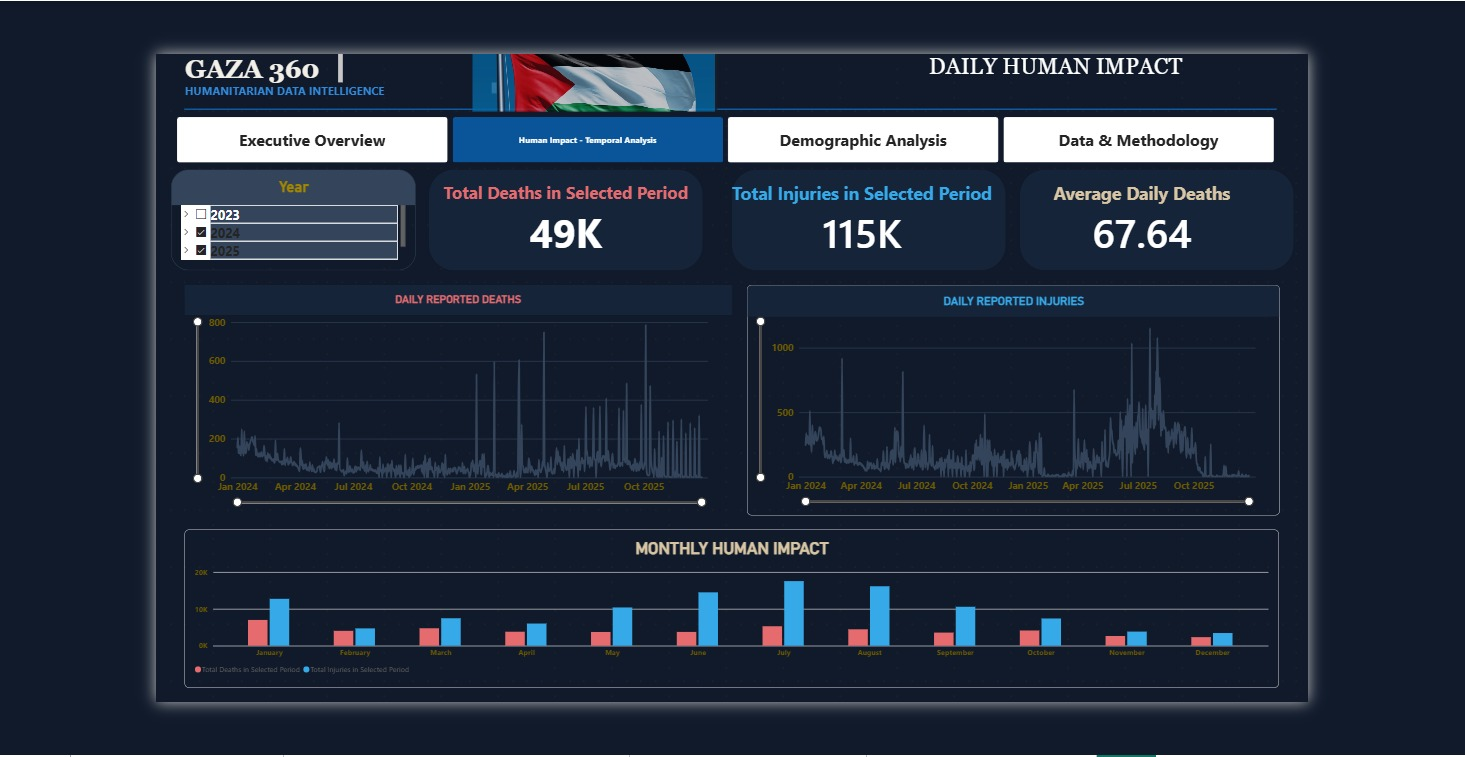

The page's visual inventory and layout, read from the dashboard file:
{"tool":"powerbi","page":{"name":"Human Impact - Temporal Analysis","canvas":[1920,1080],"ordinal":1},"visuals":[{"type":"textbox","box":[48,0,264,48],"z":0},{"type":"textbox","box":[48,48,520,28],"z":1000},{"type":"shape","box":[48,72,1820.1,39],"z":2000},{"type":"textbox","box":[1128,0,744,48],"z":3000},{"type":"image","box":[528,0,408,96],"z":4000},{"type":"shape","box":[1440,192,456,168],"z":5000},{"type":"shape","box":[960,192,456,168],"z":6000},{"type":"shape","box":[456,192,456,168],"z":7000},{"type":"cardVisual","fields":{"Data":["gold dim_age.Average Daily Deaths"]},"box":[1416,192,456,168],"z":8000},{"type":"cardVisual","fields":{"Data":["gold dim_age.Total Deaths in Selected Period"]},"box":[456,192,456,168],"z":9000},{"type":"cardVisual","fields":{"Data":["gold dim_age.Total Injuries in Selected Period"]},"box":[912,192,528,168],"z":10000},{"type":"lineChart","title":"DAILY REPORTED DEATHS","fields":{"Category":["gold dim_date.date_key"],"Y":["gold dim_age.Total Deaths in Selected Period"]},"box":[48,384,912,384],"z":11000},{"type":"clusteredColumnChart","title":"MONTHLY HUMAN IMPACT","fields":{"Category":["gold dim_date.date_key.Variation.Date Hierarchy.Month"],"Y":["gold dim_age.Total Deaths in Selected Period","gold dim_age.Total Injuries in Selected Period"]},"box":[48,792,1824,264],"z":12000},{"type":"lineChart","title":"DAILY REPORTED INJURIES","fields":{"Category":["gold dim_date.date_key.Variation.Date Hierarchy.Year","gold dim_date.date_key.Variation.Date Hierarchy.Quarter","gold dim_date.date_key.Variation.Date Hierarchy.Month","gold dim_date.date_key.Variation.Date Hierarchy.Day"],"Y":["gold dim_age.Total Injuries in Selected Period"]},"box":[984,384,888,384],"z":13000},{"type":"listSlicer","fields":{"Values":["gold dim_date.date_key.Variation.Date Hierarchy.Year","gold dim_date.date_key.Variation.Date Hierarchy.Quarter","gold dim_date.date_key.Variation.Date Hierarchy.Month","gold dim_date.date_key.Variation.Date Hierarchy.Day"]},"box":[24,192,408,168],"z":14000},{"type":"pageNavigator","box":[24,96,1848,96],"z":15000}]}

Visuals, with their boxes on the page's 1920x1080 design canvas (x1, y1, x2, y2). These are canvas units, not pixel positions in the 1465x757 screenshot, which may show the page scaled, cropped or inside an application window:
textbox: rect(48, 0, 312, 48)
textbox: rect(48, 48, 568, 76)
shape: rect(48, 72, 1868, 111)
textbox: rect(1128, 0, 1872, 48)
image: rect(528, 0, 936, 96)
shape: rect(1440, 192, 1896, 360)
shape: rect(960, 192, 1416, 360)
shape: rect(456, 192, 912, 360)
cardVisual - gold dim_age.Average Daily Deaths: rect(1416, 192, 1872, 360)
cardVisual - gold dim_age.Total Deaths in Selected Period: rect(456, 192, 912, 360)
cardVisual - gold dim_age.Total Injuries in Selected Period: rect(912, 192, 1440, 360)
"DAILY REPORTED DEATHS" lineChart: rect(48, 384, 960, 768)
"MONTHLY HUMAN IMPACT" clusteredColumnChart: rect(48, 792, 1872, 1056)
"DAILY REPORTED INJURIES" lineChart: rect(984, 384, 1872, 768)
listSlicer - gold dim_date.date_key.Variation.Date Hierarchy.Year x gold dim_date.date_key.Variation.Date Hierarchy.Quarter: rect(24, 192, 432, 360)
pageNavigator: rect(24, 96, 1872, 192)
